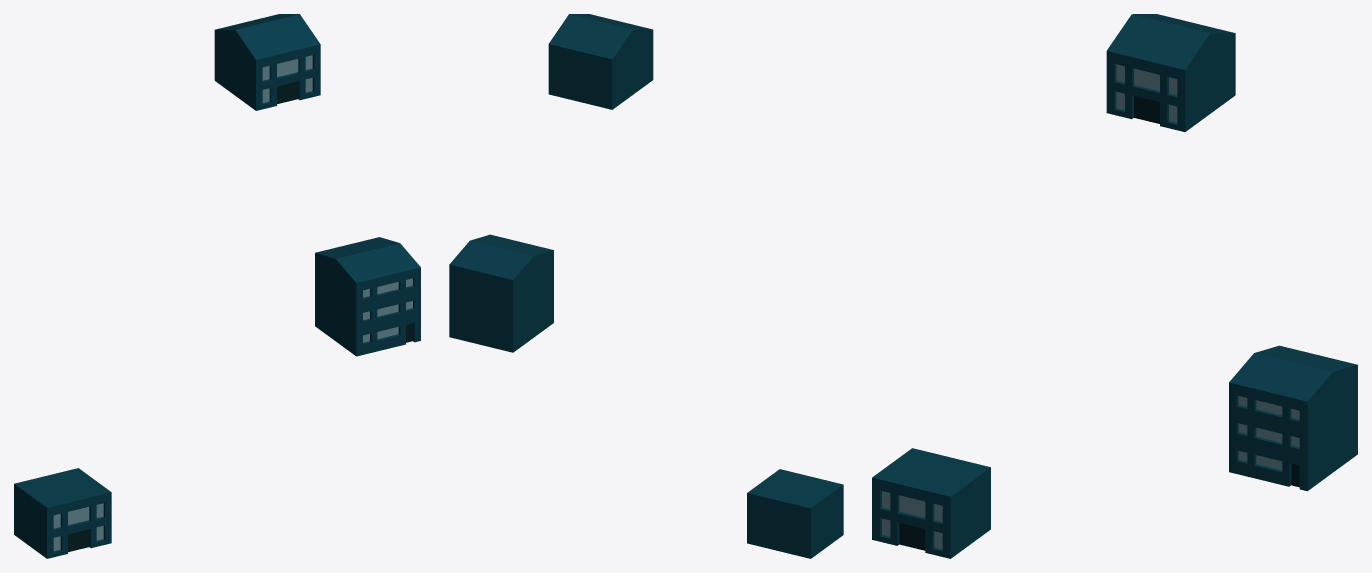
Rendered from BinaGrup3.gltf.
3 renders of one model, left to right at view 1: azimuth 30°, elevation 25°; view 2: azimuth 150°, elevation 25°; view 3: azimuth 330°, elevation 25°, orthographic. The views are drawn at different scales.
Parts seen in each view (by area): view 1: Building_051.011, Building_042.011, Building_031.011, Building_051.012, Building_031.012, Building_042.012; view 2: Building_051.011, Building_042.011, Building_031.011; view 3: Building_051.011, Building_042.011, Building_031.011, Building_051.012, Building_031.012, Building_042.012, Building_031.013.
Boxes of the visible parts, bbox=[...] form: Building_051.011: bbox=[315, 237, 420, 356]; Building_042.011: bbox=[214, 14, 320, 110]; Building_031.011: bbox=[14, 468, 111, 558]; Building_051.012: bbox=[363, 278, 412, 342]; Building_031.012: bbox=[53, 503, 103, 550]; Building_042.012: bbox=[262, 55, 312, 102]; Building_051.011: bbox=[449, 234, 553, 352]; Building_042.011: bbox=[548, 14, 653, 109]; Building_031.011: bbox=[747, 469, 843, 558]; Building_051.011: bbox=[1229, 345, 1357, 491]; Building_042.011: bbox=[1106, 14, 1235, 131]; Building_031.011: bbox=[872, 448, 990, 558]; Building_051.012: bbox=[1238, 396, 1299, 470]; Building_031.012: bbox=[882, 491, 942, 549]; Building_042.012: bbox=[1116, 64, 1177, 122]; Building_031.013: bbox=[899, 522, 925, 550].
Bounding box in the file's own units: 0.2772 × 0.3413 × 0.0543.
